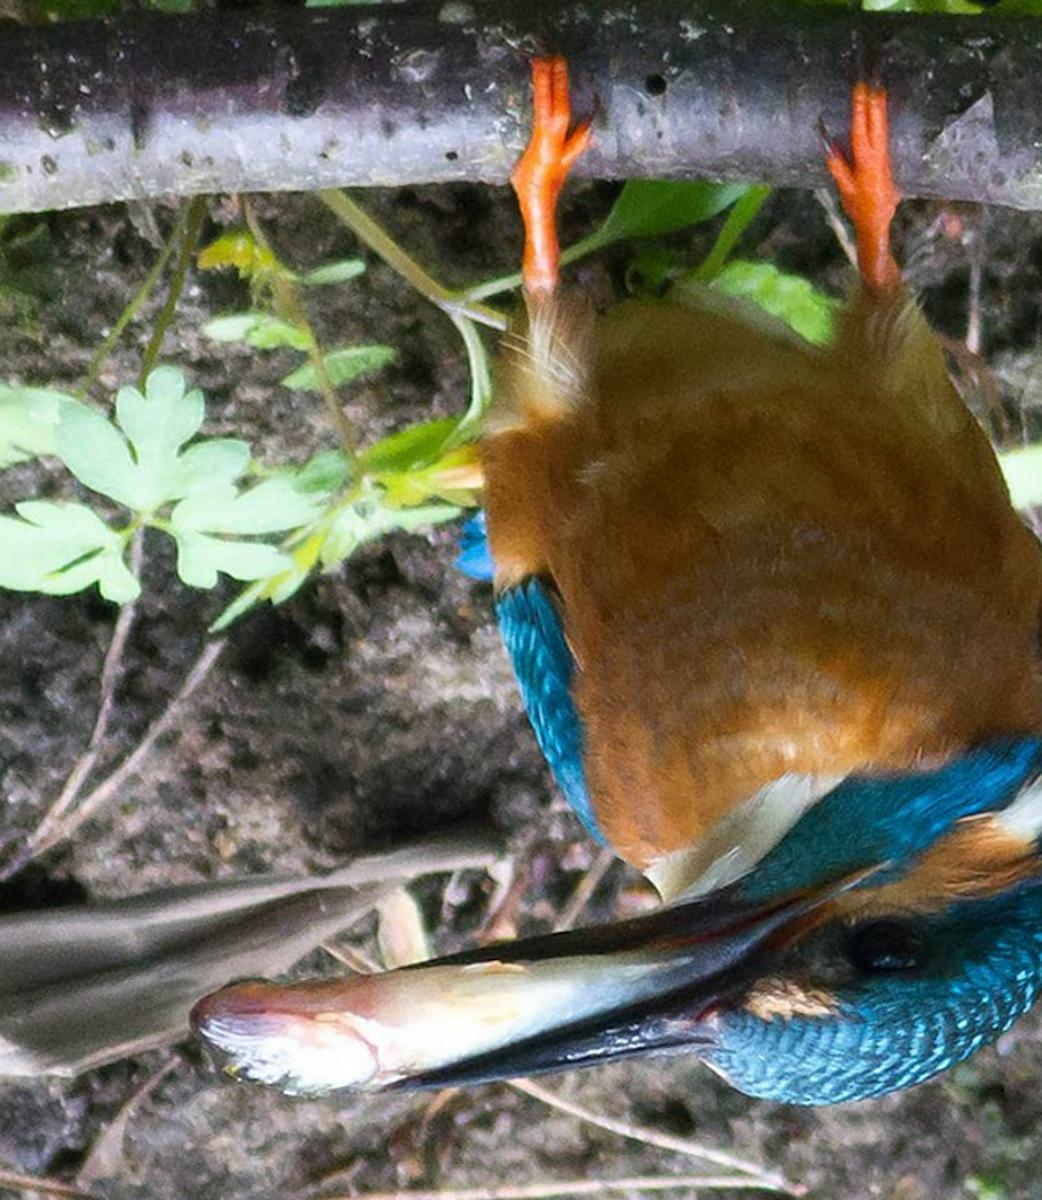kingfisher: (170, 104, 1030, 1149)
